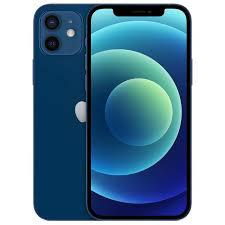Smartphone: (86, 3, 188, 216), (40, 8, 99, 220)
